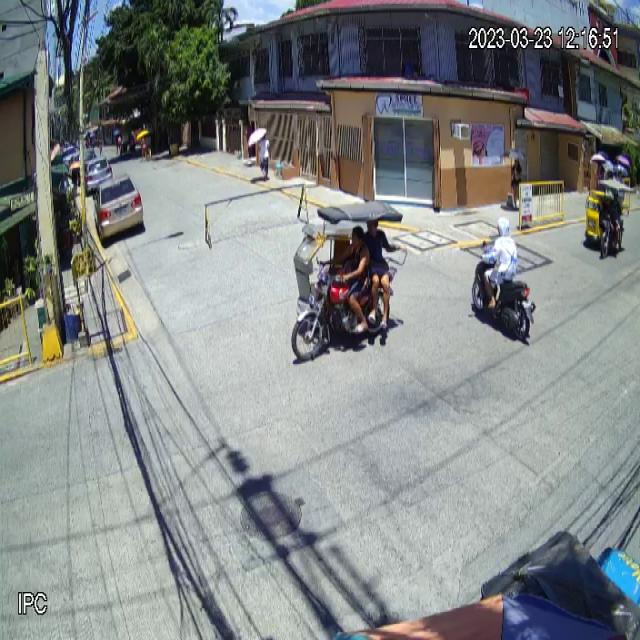Car: (94, 173, 143, 240)
Motorcycle: (470, 238, 536, 340)
Tricycle: (290, 200, 408, 364)
